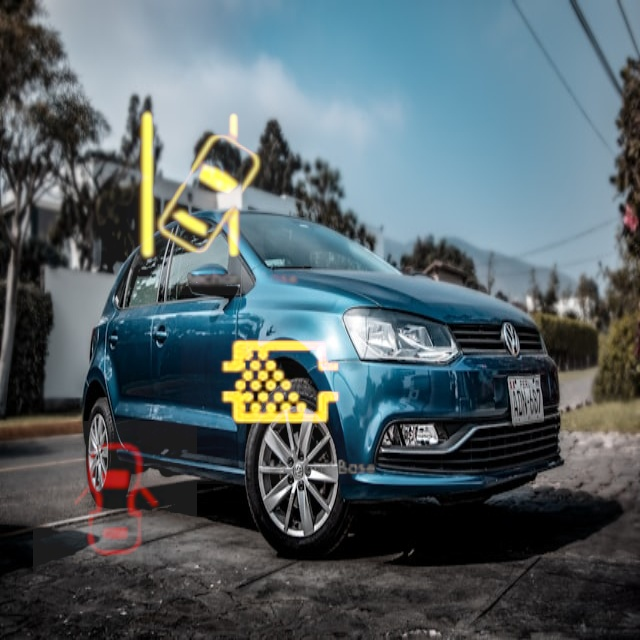symbol: (94, 83, 306, 295), (181, 282, 383, 484), (33, 421, 197, 585)
